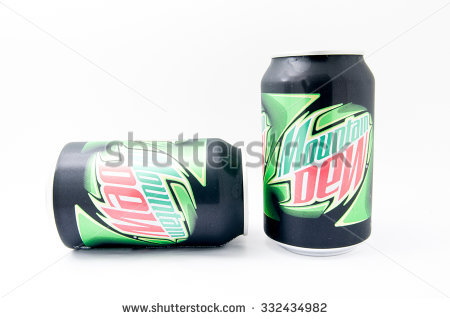can: (252, 45, 389, 256), (48, 130, 252, 264)
